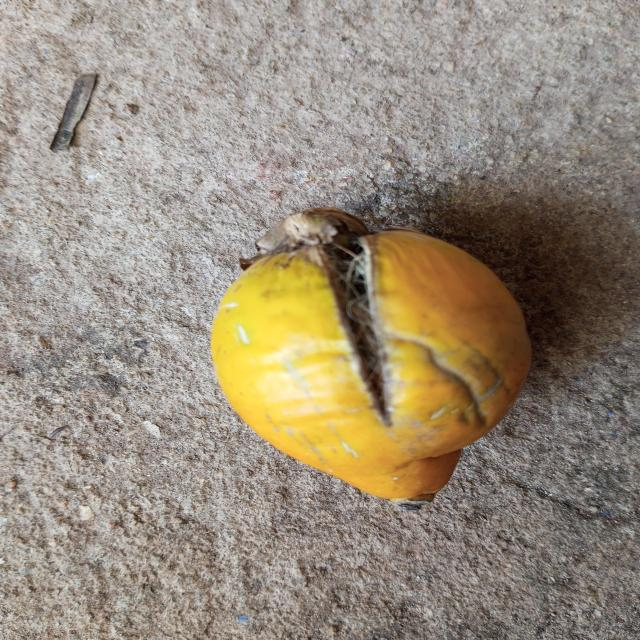damaged: (211, 208, 531, 505)
